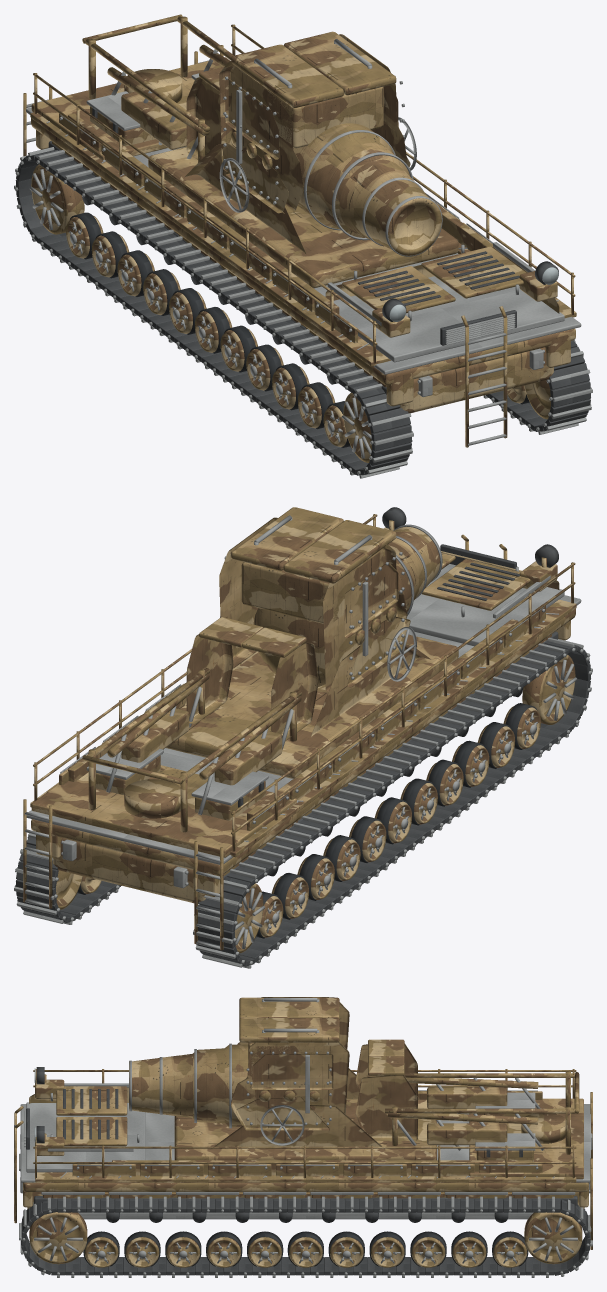
The model's file is pgf-desert.glb.
3 renders of one model, top to bottom at view 1: azimuth 30°, elevation 25°; view 2: azimuth 150°, elevation 25°; view 3: azimuth 270°, elevation 25°, orthographic. The views are drawn at different scales.
Parts seen in each view (by area): view 1: cradle-graphite-painted-steel-batch, running-gear-panel-shadow-batch, chassis-graphite-painted-steel-batch, platform-graphite-painted-steel-batch, running-gear-cast-edge-steel-batch, carriage-graphite-painted-steel-batch, barrel-tube-exterior-batch, running-gear-graphite-painted-steel-batch, engine-cast-edge-steel-batch, mechanisms-graphite-painted-steel-batch, engine-graphite-painted-steel-batch, running-gear-dark-running-bands-batch (+6 smaller); view 2: platform-graphite-painted-steel-batch, cradle-graphite-painted-steel-batch, running-gear-panel-shadow-batch, chassis-graphite-painted-steel-batch, mechanisms-graphite-painted-steel-batch, carriage-graphite-painted-steel-batch, running-gear-cast-edge-steel-batch, running-gear-graphite-painted-steel-batch, running-gear-dark-running-bands-batch, chassis-cast-edge-steel-batch, engine-cast-edge-steel-batch, barrel-tube-exterior-batch (+6 smaller); view 3: running-gear-panel-shadow-batch, chassis-graphite-painted-steel-batch, mechanisms-graphite-painted-steel-batch, platform-graphite-painted-steel-batch, cradle-graphite-painted-steel-batch, running-gear-graphite-painted-steel-batch, carriage-graphite-painted-steel-batch, chassis-cast-edge-steel-batch, barrel-tube-exterior-batch, running-gear-cast-edge-steel-batch, engine-graphite-painted-steel-batch, engine-cast-edge-steel-batch (+7 smaller).
Part boxes in pixels (bbox=[...]): cradle-graphite-painted-steel-batch: bbox=[219, 31, 410, 213]; running-gear-panel-shadow-batch: bbox=[15, 150, 590, 475]; chassis-graphite-painted-steel-batch: bbox=[31, 112, 575, 413]; platform-graphite-painted-steel-batch: bbox=[23, 24, 576, 366]; running-gear-cast-edge-steel-batch: bbox=[14, 147, 592, 478]; carriage-graphite-painted-steel-batch: bbox=[148, 143, 458, 288]; barrel-tube-exterior-batch: bbox=[293, 123, 441, 255]; running-gear-graphite-painted-steel-batch: bbox=[31, 164, 550, 462]; engine-cast-edge-steel-batch: bbox=[327, 242, 564, 445]; mechanisms-graphite-painted-steel-batch: bbox=[82, 14, 233, 162]; engine-graphite-painted-steel-batch: bbox=[325, 246, 559, 447]; running-gear-dark-running-bands-batch: bbox=[70, 212, 529, 447]; platform-graphite-painted-steel-batch: bbox=[23, 514, 576, 950]; cradle-graphite-painted-steel-batch: bbox=[219, 507, 410, 693]; running-gear-panel-shadow-batch: bbox=[16, 641, 590, 966]; chassis-graphite-painted-steel-batch: bbox=[31, 604, 575, 904]; mechanisms-graphite-painted-steel-batch: bbox=[82, 617, 318, 832]; carriage-graphite-painted-steel-batch: bbox=[166, 634, 458, 778]; running-gear-cast-edge-steel-batch: bbox=[14, 637, 592, 968]; running-gear-graphite-painted-steel-batch: bbox=[56, 655, 575, 953]; running-gear-dark-running-bands-batch: bbox=[77, 703, 537, 938]; chassis-cast-edge-steel-batch: bbox=[26, 595, 581, 888]; engine-cast-edge-steel-batch: bbox=[406, 564, 564, 646]; barrel-tube-exterior-batch: bbox=[253, 526, 439, 686]; running-gear-panel-shadow-batch: bbox=[21, 1198, 590, 1275]; chassis-graphite-painted-steel-batch: bbox=[23, 1091, 588, 1208]; mechanisms-graphite-painted-steel-batch: bbox=[355, 1039, 579, 1154]; platform-graphite-painted-steel-batch: bbox=[33, 1069, 592, 1249]; cradle-graphite-painted-steel-batch: bbox=[231, 997, 349, 1130]; running-gear-graphite-painted-steel-batch: bbox=[29, 1212, 582, 1267]; carriage-graphite-painted-steel-batch: bbox=[174, 1068, 436, 1160]; chassis-cast-edge-steel-batch: bbox=[20, 1090, 592, 1219]; barrel-tube-exterior-batch: bbox=[129, 1044, 248, 1127]; running-gear-cast-edge-steel-batch: bbox=[19, 1153, 592, 1277]; engine-graphite-painted-steel-batch: bbox=[14, 1074, 128, 1223]; engine-cast-edge-steel-batch: bbox=[14, 1083, 145, 1220].
Bounding box in the file's own units: 3.69 × 4.49 × 10.6.
Materials: 6 (6 with a texture image).
